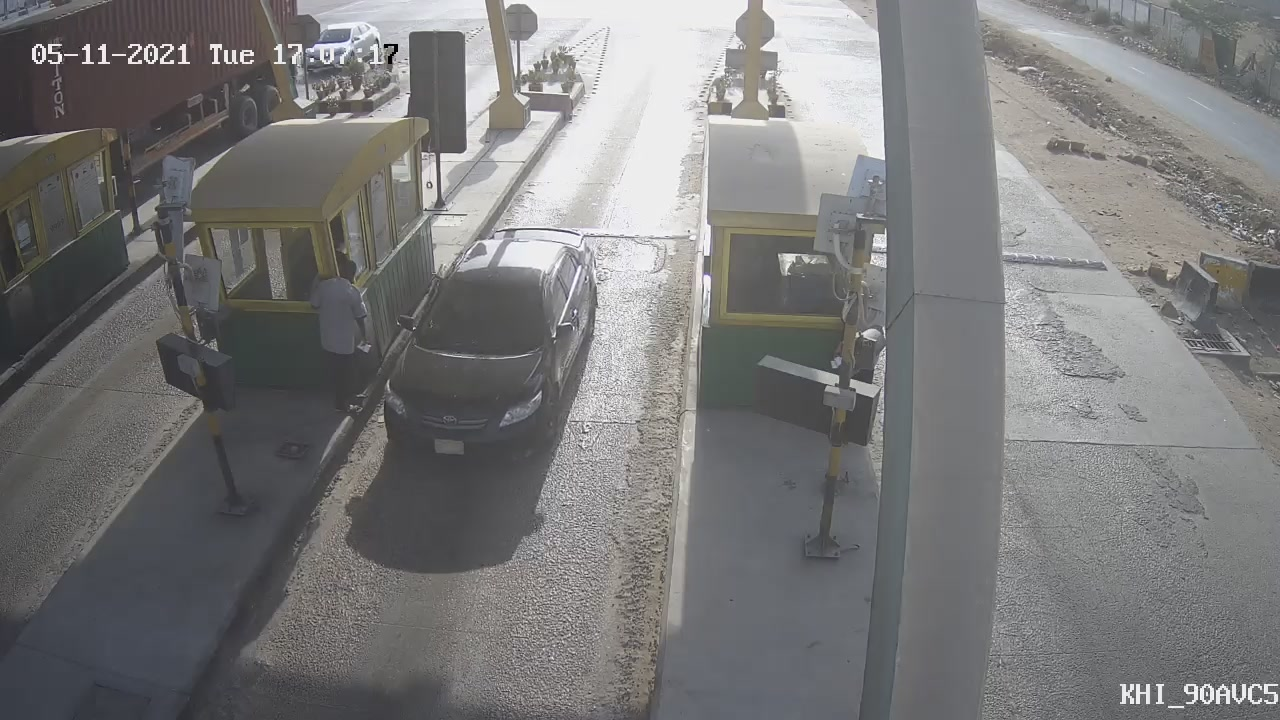F1: (363, 209, 612, 490)
